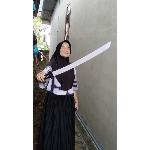Pedang: (35, 39, 115, 82)
